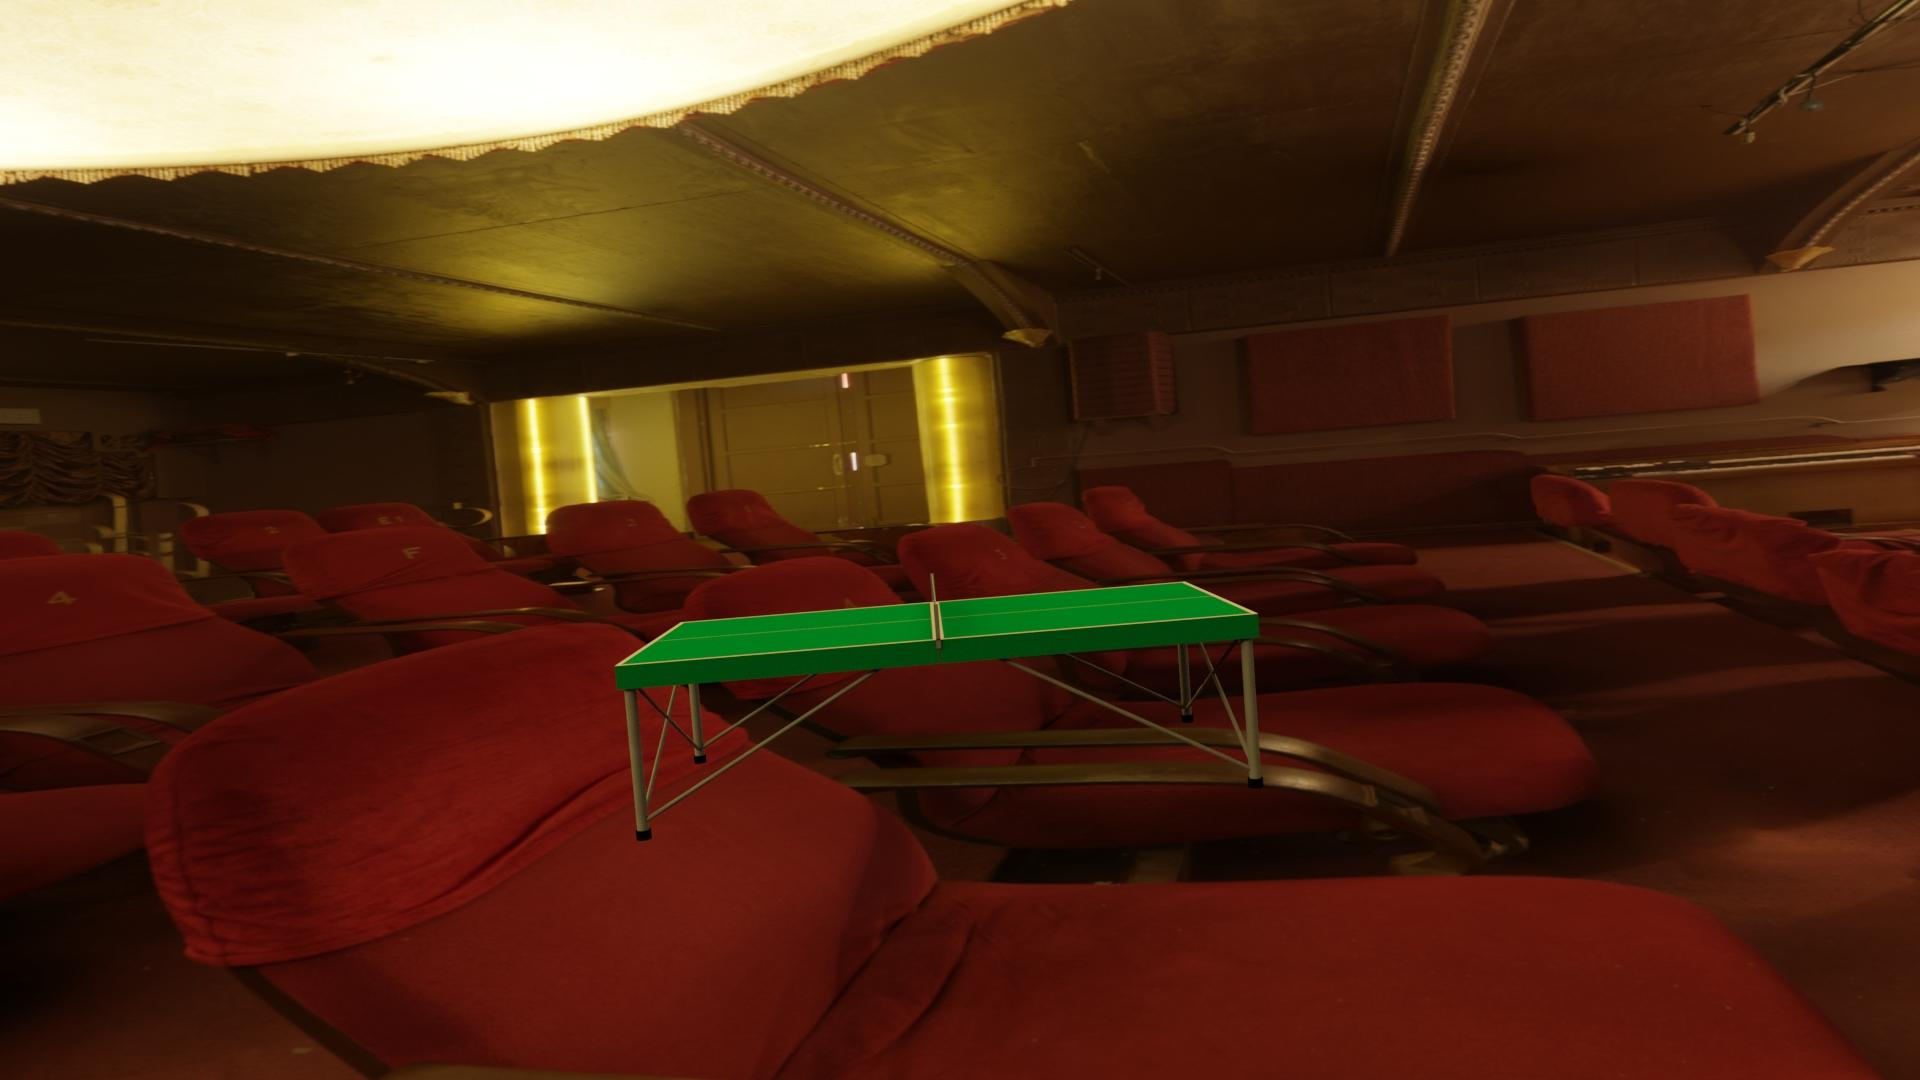table: (621, 583, 1251, 665)
